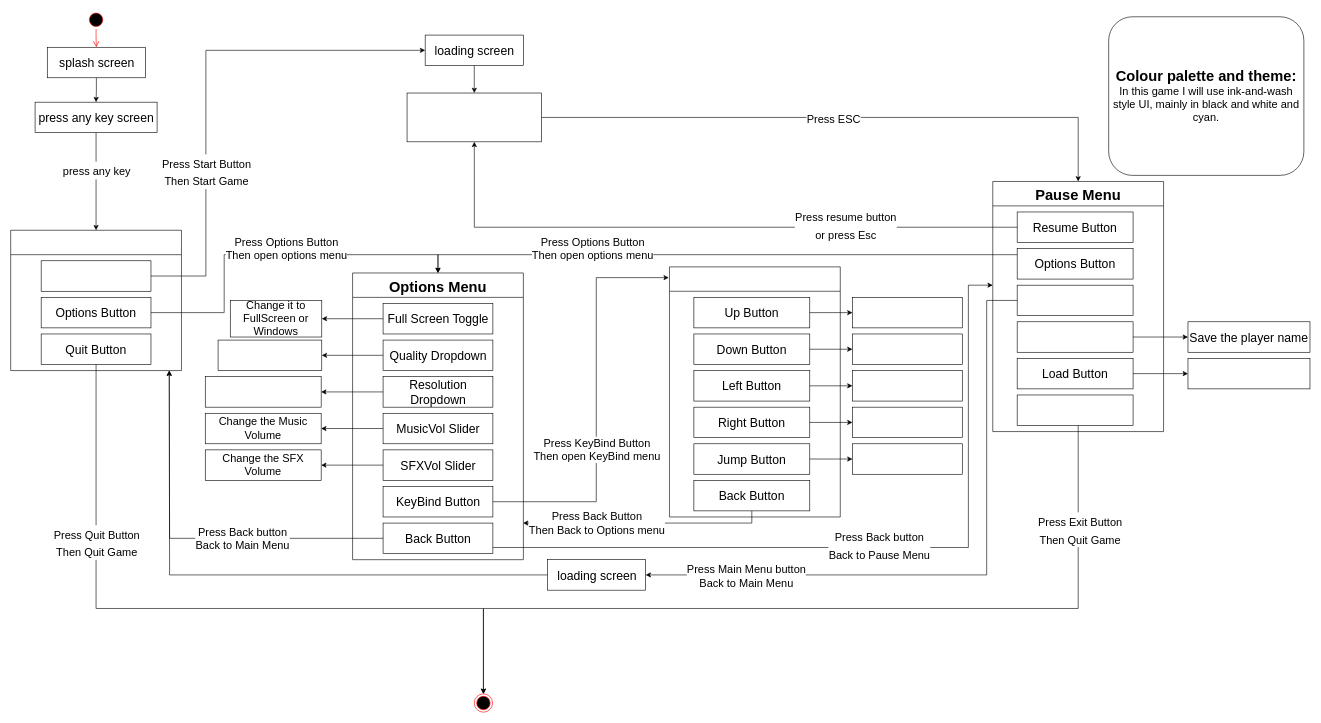
Some shapes in this 1321 by 723 pixel diagram are drawn without their labels. Each missing label, with the box of its shape:
Change the Quality: (217, 339, 322, 371)
Change the Resolution: (205, 376, 321, 407)
Exit Button: (1017, 394, 1133, 425)
Game Scene: (406, 92, 542, 142)
Key Bind Menu: (669, 266, 840, 517)
Load the player name: (1187, 358, 1310, 389)
Main Menu: (10, 230, 181, 371)
Main Menu Button: (1017, 285, 1133, 316)
Map the Down Key: (852, 333, 962, 364)
Map the Jump Key: (852, 443, 962, 474)
Map the Left Key: (852, 370, 962, 401)
Map the Right Key: (852, 407, 962, 438)
Map the Up Key: (852, 297, 962, 328)
Save Button: (1017, 321, 1133, 352)
Start Button: (41, 260, 151, 291)
